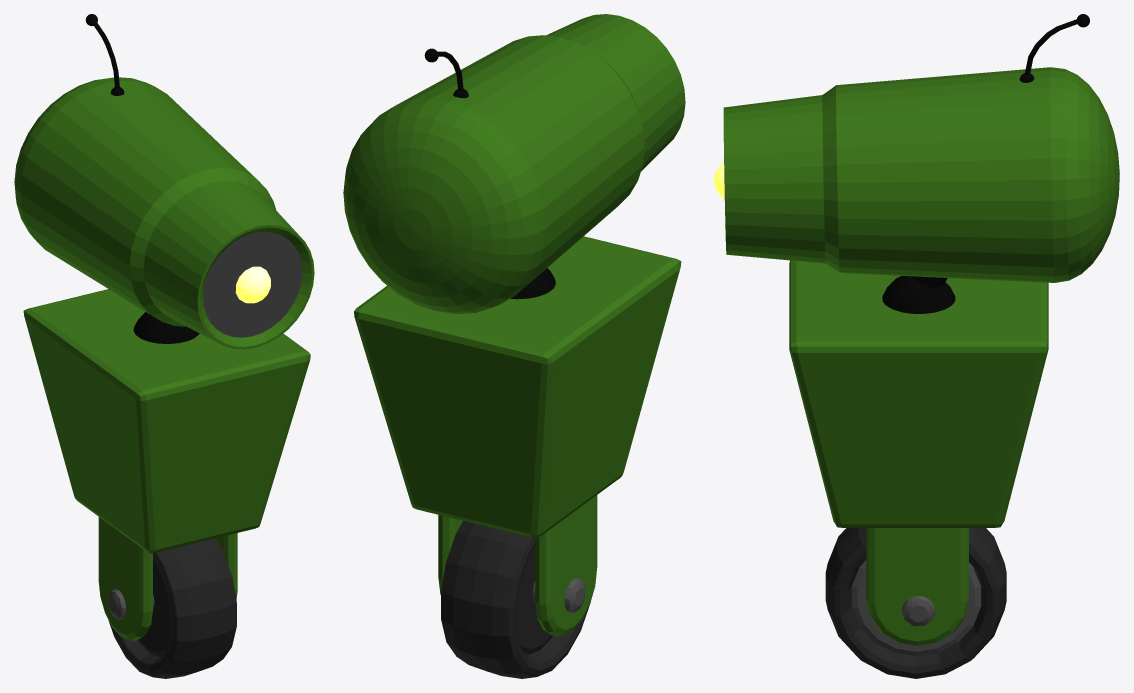
Rendered from LittleRobotGuy.fbx.
The picture shows the model from 3 angles, left to right: view 1: azimuth 30°, elevation 25°; view 2: azimuth 150°, elevation 25°; view 3: azimuth 270°, elevation 25°; orthographic projection. The views are drawn at different scales.
Parts seen in each view (by area): view 1: Cube, Cylinder; view 2: Cube, Cylinder; view 3: Cube, Cylinder.
Part boxes in pixels (<box>): Cube: <box>23,289,310,678</box>; Cylinder: <box>14,14,314,349</box>; Cube: <box>354,236,681,678</box>; Cylinder: <box>343,14,685,314</box>; Cube: <box>789,260,1048,678</box>; Cylinder: <box>714,14,1119,282</box>.
Size of the model in its own units: 224 by 739 by 415.
